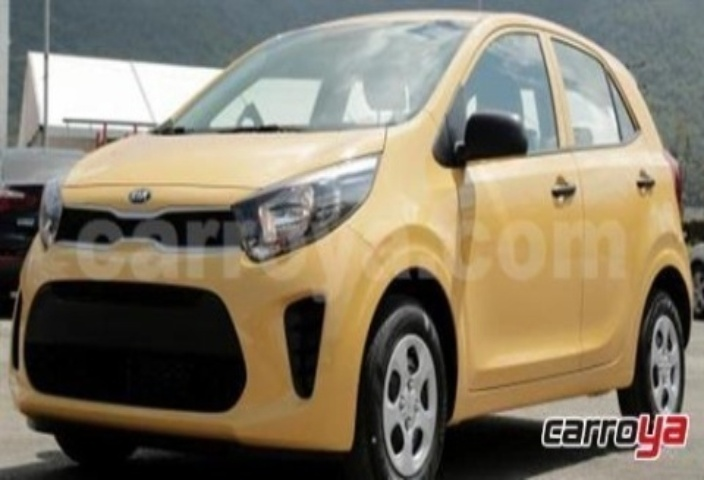taxi: (19, 16, 704, 466)
